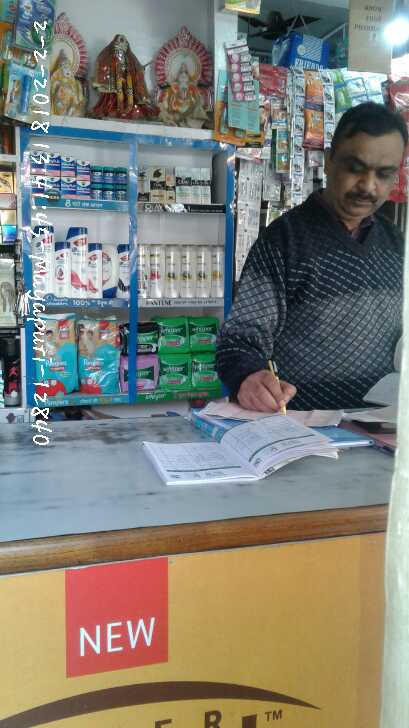vicks: (29, 151, 123, 202)
